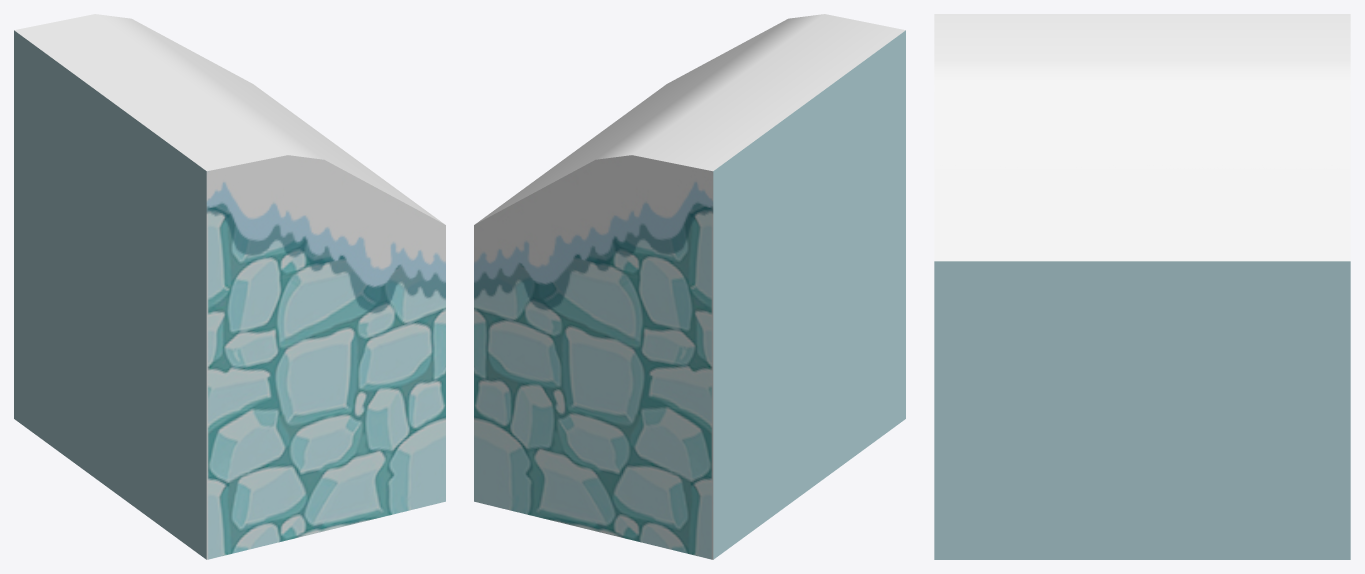
The model's file is Snow_R_6.fbx.
The picture shows the model from 3 angles, left to right: view 1: azimuth 30°, elevation 25°; view 2: azimuth 150°, elevation 25°; view 3: azimuth 270°, elevation 25°; orthographic projection. The views are drawn at different scales.
Parts seen in each view (by area): view 1: Snow_R_6; view 2: Snow_R_6; view 3: Snow_R_6.
Part boxes in pixels (left/top/right/bottom): Snow_R_6: left=14, top=14, right=445, bottom=559; Snow_R_6: left=474, top=14, right=905, bottom=559; Snow_R_6: left=934, top=14, right=1350, bottom=559.
Bounding box in the file's own units: 3.05 × 4.74 × 4.26.
1 material, 1 textured.
